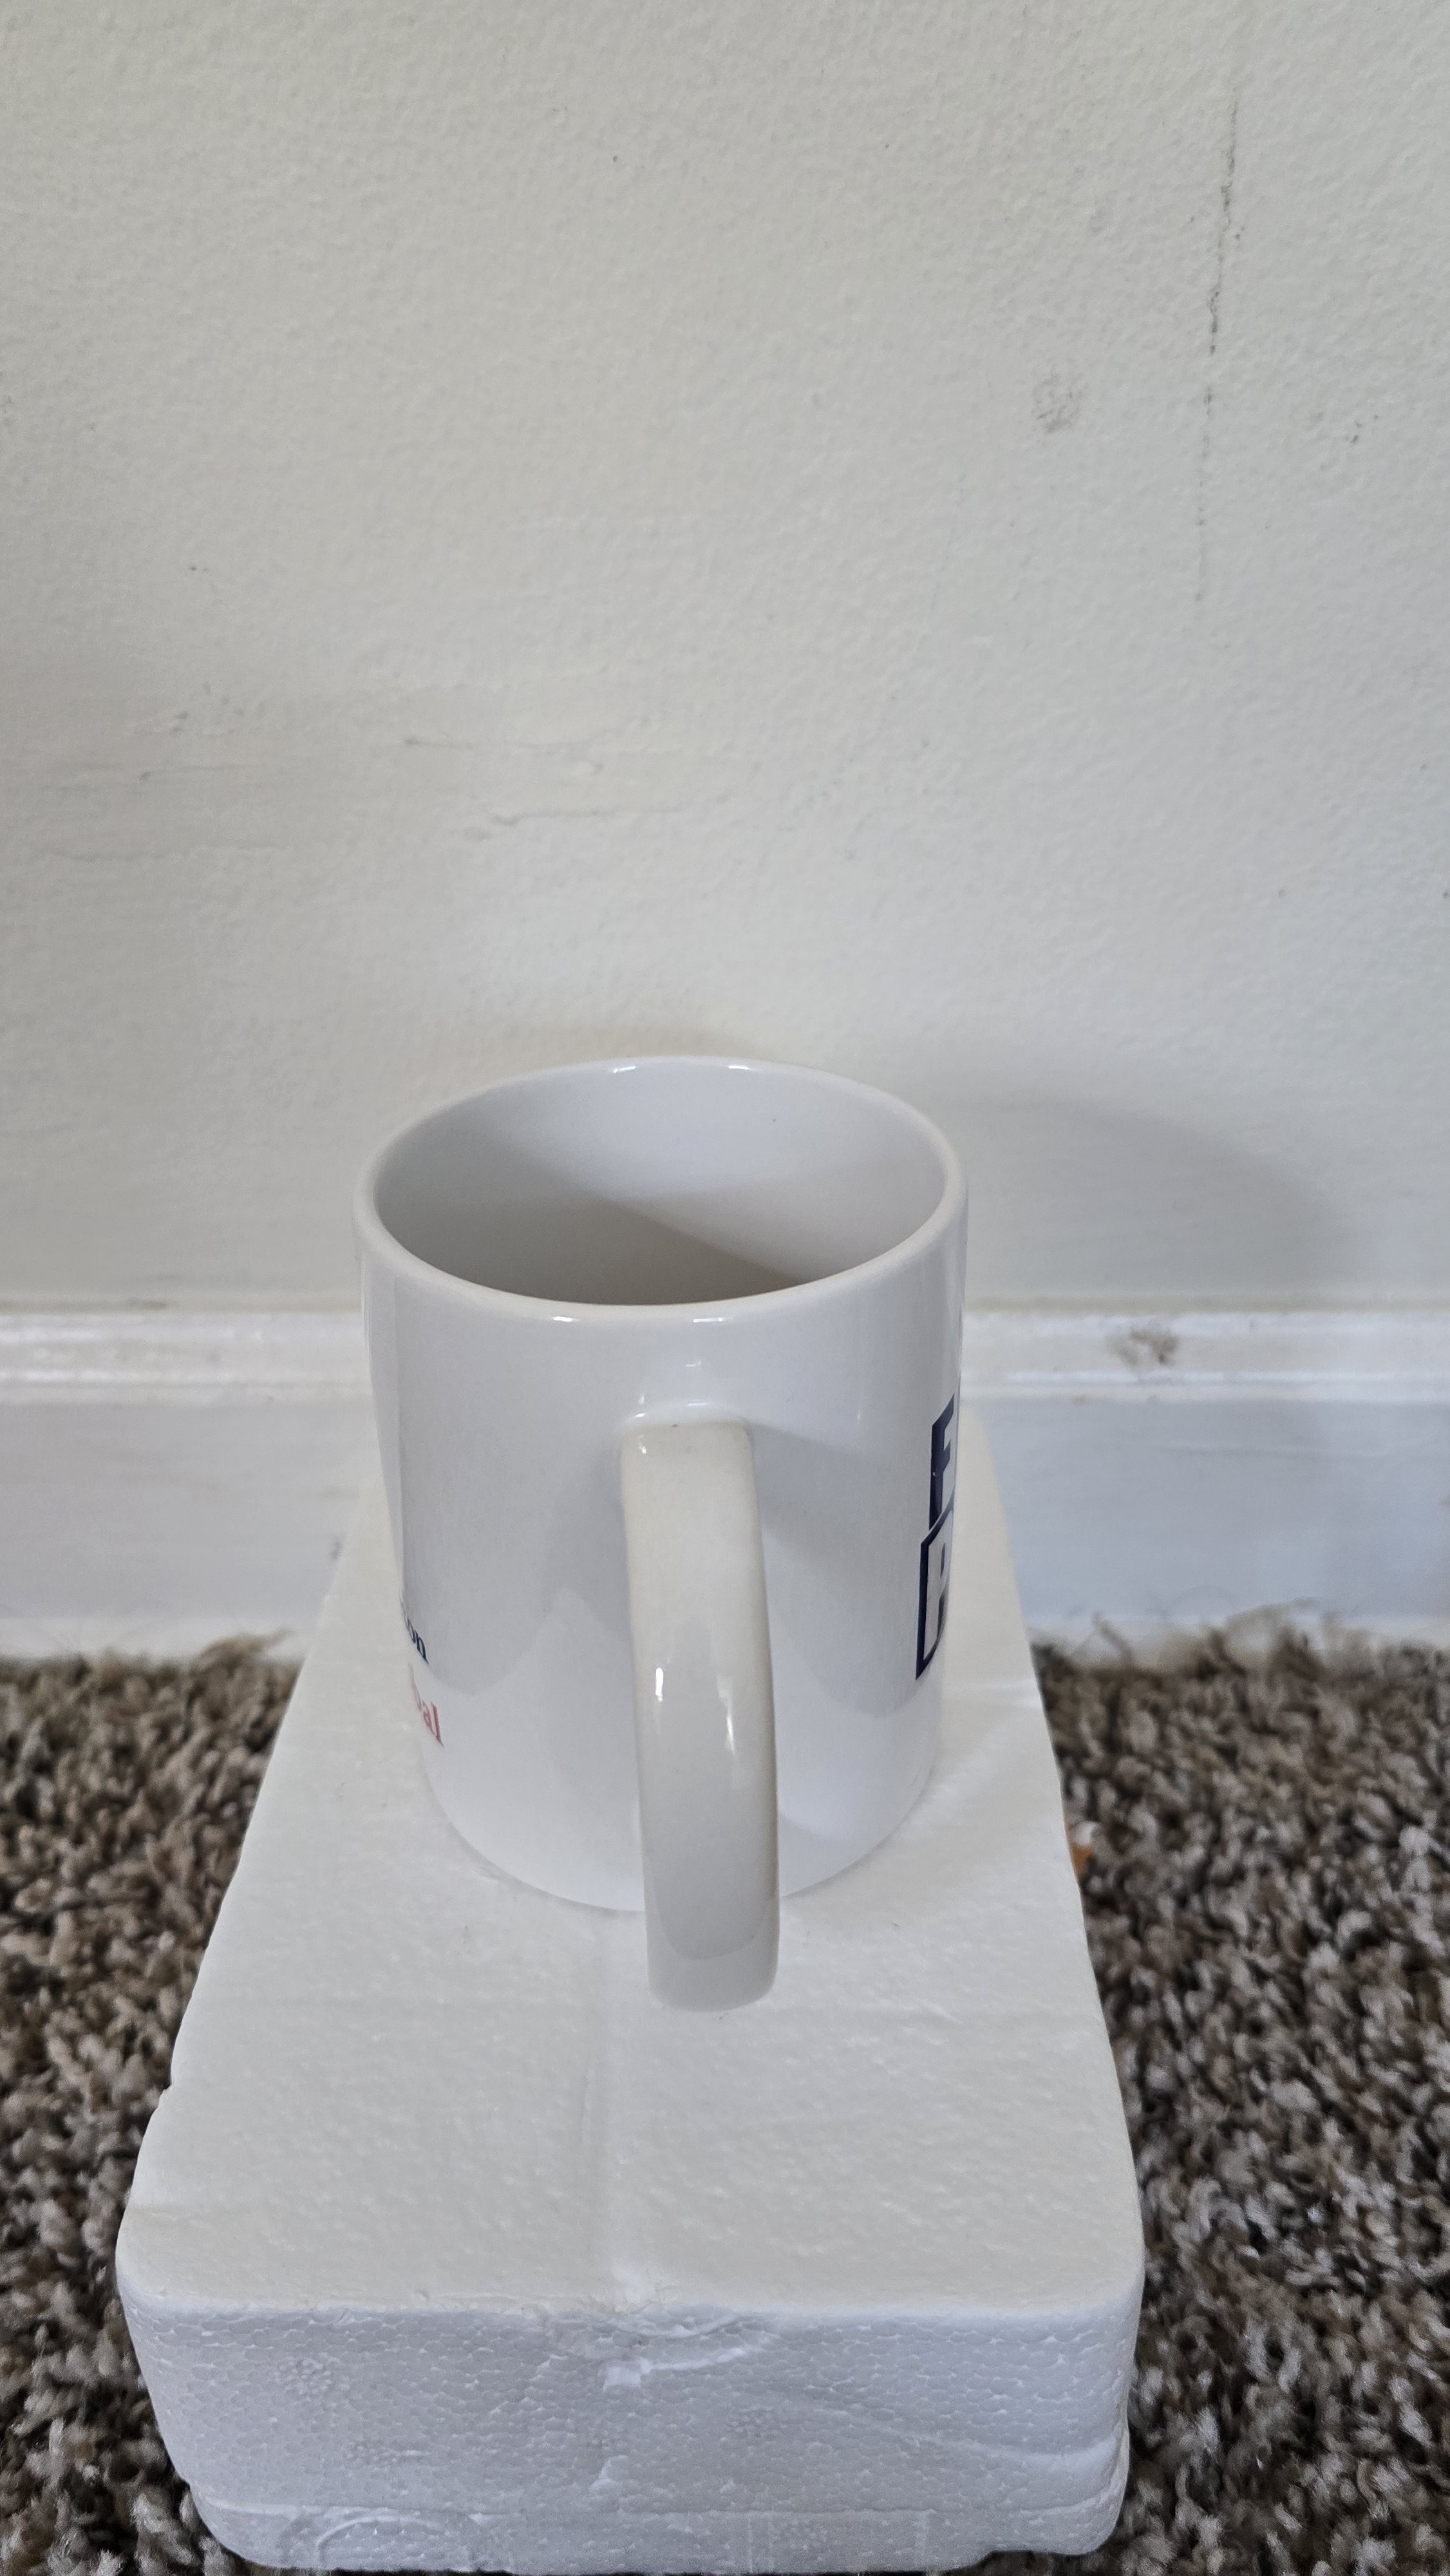mug: (341, 957, 1024, 2029)
